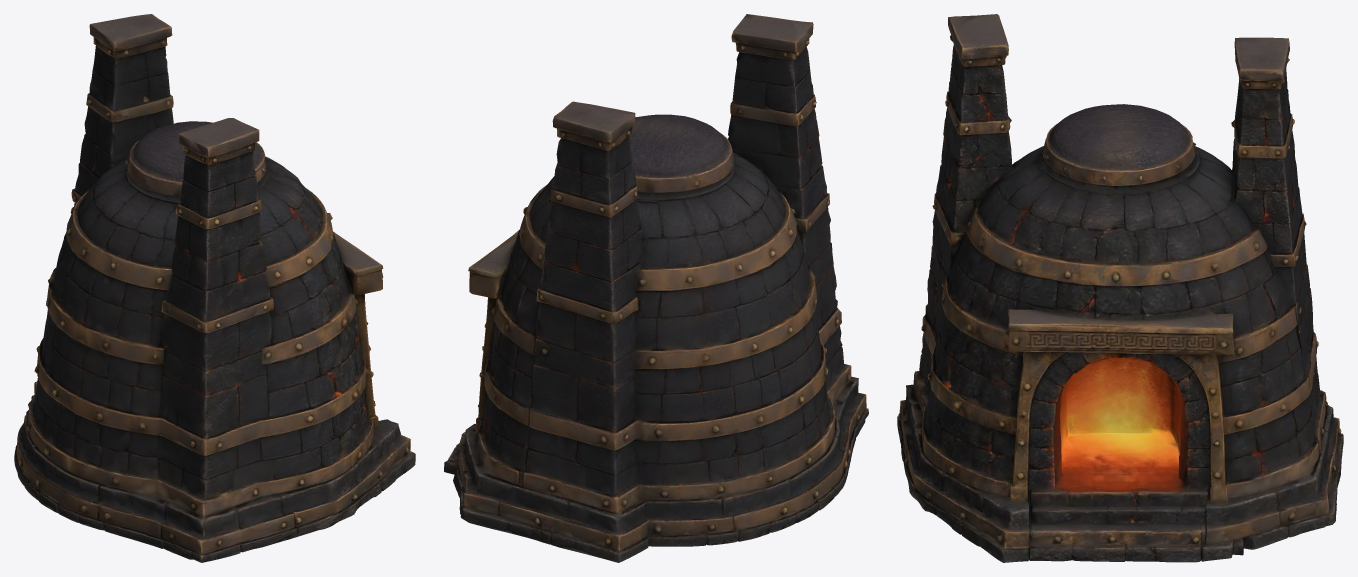
The model's file is furnace.glb.
The picture shows the model from 3 angles, left to right: view 1: azimuth 30°, elevation 25°; view 2: azimuth 150°, elevation 25°; view 3: azimuth 270°, elevation 25°; orthographic projection. The views are drawn at different scales.
Visible parts, largest first — view 1: tripo_node_11413ad6-a749-4576-a80d-6aef61bffbbc; view 2: tripo_node_11413ad6-a749-4576-a80d-6aef61bffbbc; view 3: tripo_node_11413ad6-a749-4576-a80d-6aef61bffbbc.
Boxes of the visible parts, x1=… form: tripo_node_11413ad6-a749-4576-a80d-6aef61bffbbc: x1=14, y1=14, x2=415, y2=562; tripo_node_11413ad6-a749-4576-a80d-6aef61bffbbc: x1=444, y1=14, x2=868, y2=562; tripo_node_11413ad6-a749-4576-a80d-6aef61bffbbc: x1=897, y1=14, x2=1343, y2=562.
Bounding box in the file's own units: 0.8577 × 1 × 0.9547.
Materials: 1 (1 with a texture image).
